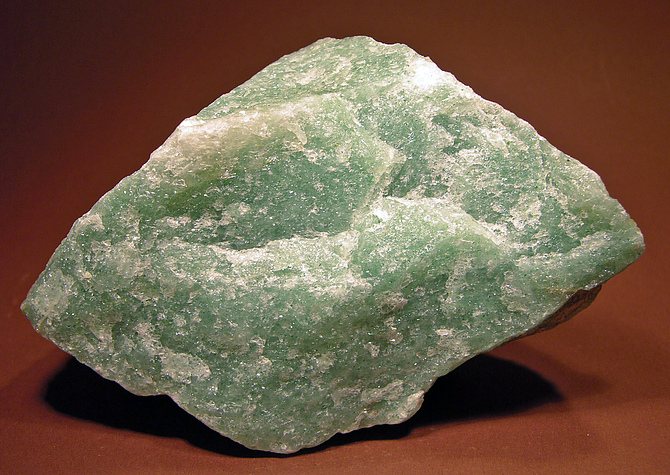Aventurine: (20, 35, 648, 452)
